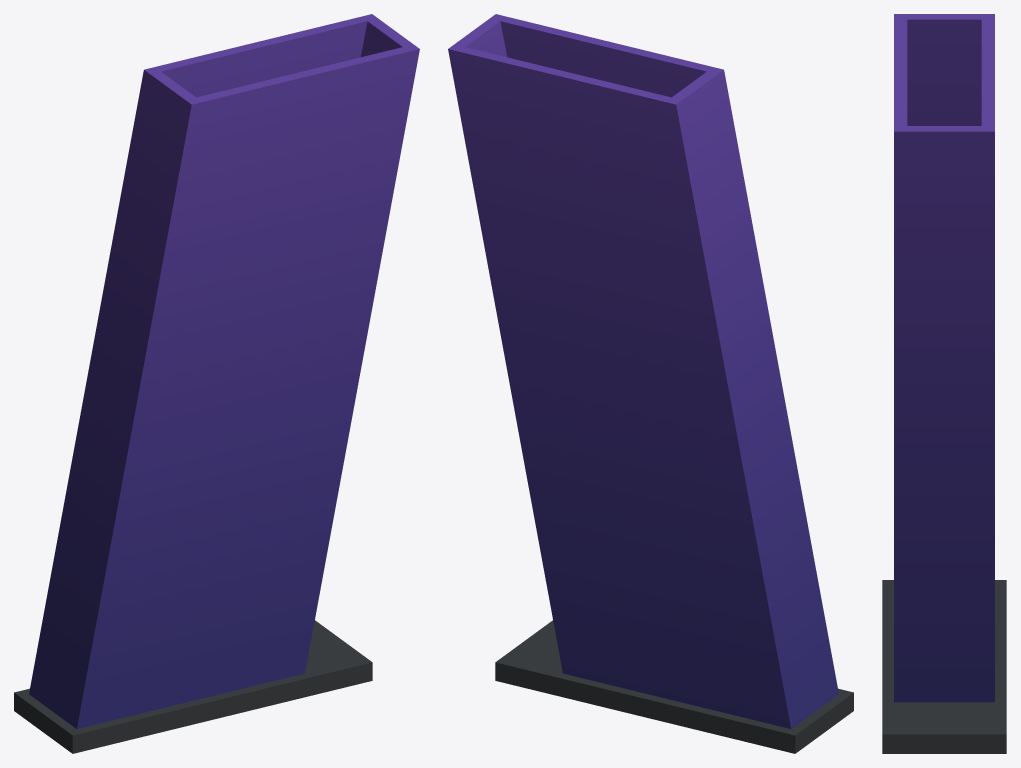
File: Pistol3_04_3.fbx
3 views of the same model, side by side, from view 1: azimuth 30°, elevation 25°; view 2: azimuth 150°, elevation 25°; view 3: azimuth 270°, elevation 25° (orthographic). The views are drawn at different scales.
Visible parts, largest first — view 1: Pistol3_04_3; view 2: Pistol3_04_3; view 3: Pistol3_04_3.
Part boxes in pixels (x1,y1,x2,y2): Pistol3_04_3: [14, 14, 419, 753]; Pistol3_04_3: [448, 14, 853, 753]; Pistol3_04_3: [882, 14, 1006, 753].
Size of the model in its own units: 0.0918 by 0.1529 by 0.0265.
